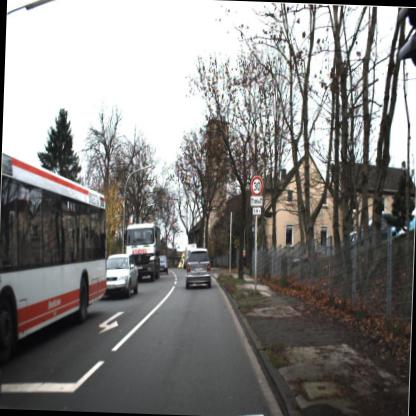prohibitory: (248, 171, 264, 198)
